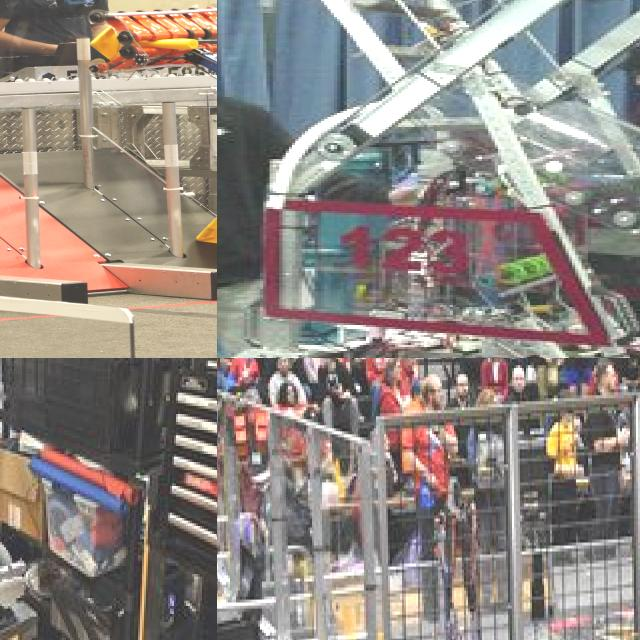FRC-Robots: (241, 0, 640, 358), (24, 0, 217, 312), (407, 504, 524, 640), (0, 358, 55, 640)
